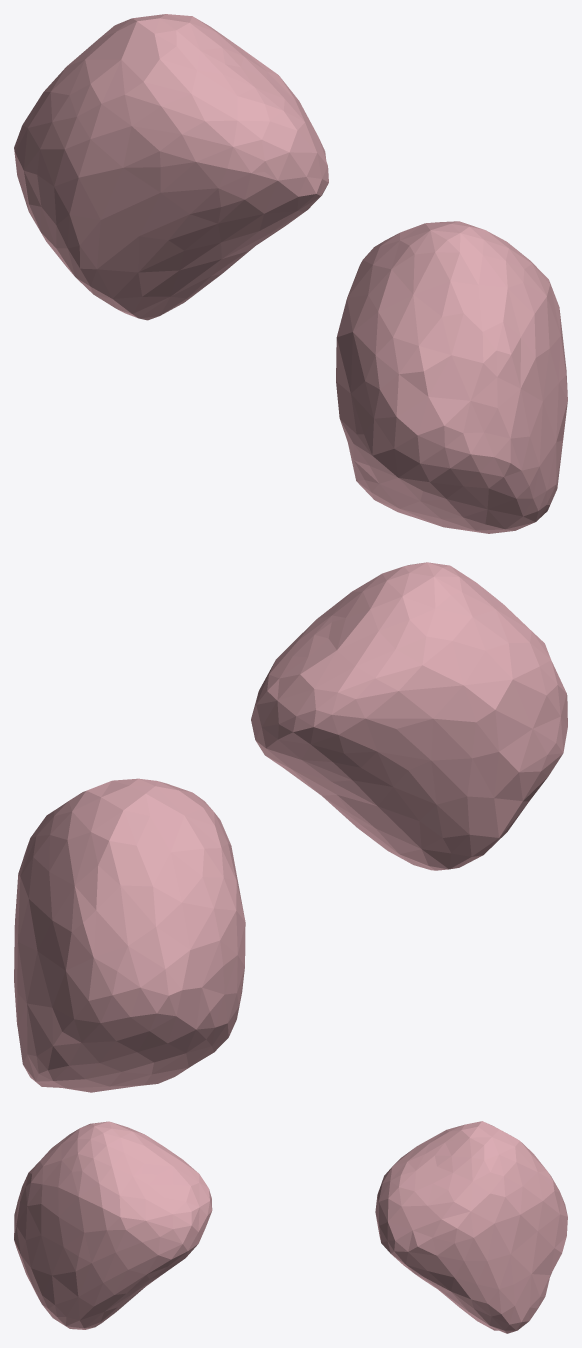
3 renders of one model, top to bottom at view 1: azimuth 30°, elevation 25°; view 2: azimuth 150°, elevation 25°; view 3: azimuth 270°, elevation 25°, orthographic. The views are drawn at different scales.
Parts seen in each view (by area): view 1: 127.obj; view 2: 127.obj; view 3: 127.obj.
Part boxes in pixels (x1=…): 127.obj: x1=14, y1=14, x2=567, y2=533; 127.obj: x1=14, y1=562, x2=567, y2=1092; 127.obj: x1=14, y1=1121, x2=567, y2=1333.
Bounding box in the file's own units: 652 × 817 × 2112.
